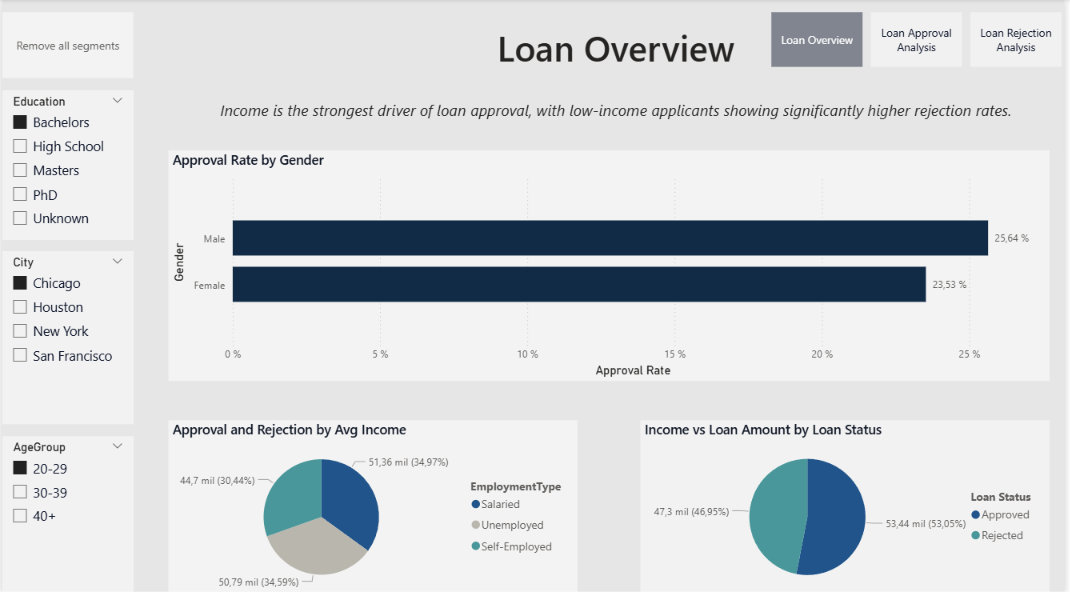

Layout of this report page (visuals, bound fields, positions):
{"tool":"powerbi","page":{"name":"Loan Overview","canvas":[1280,720],"ordinal":0},"visuals":[{"type":"textbox","box":[200.3,24.1,1079.8,176.1],"z":0},{"type":"pieChart","title":"Approval and Rejection by Avg Income","fields":{"Category":["EmploymentType.EmploymentType"],"Y":["Medidas.Avg Income"]},"box":[200.3,507.9,493.4,212.3],"z":1000},{"type":"clusteredBarChart","title":"Approval Rate by Gender","fields":{"Y":["LoanRiskPrediction.Approval Rate"],"Category":["Customer.Gender"]},"box":[200.3,182.2,1062.9,278.7],"z":2000},{"type":"pieChart","title":"Income vs Loan Amount by Loan Status","fields":{"Category":["LoanRiskPrediction.Loan Status"],"Y":["Medidas.Avg Income"]},"box":[769.7,507.9,493.4,212.3],"z":3000},{"type":"slicer","fields":{"Values":["Age.AgeGroup"]},"box":[0,527.2,158,189.4],"z":4000},{"type":"slicer","fields":{"Values":["City.City"]},"box":[0,304.6,158,208.7],"z":5000},{"type":"slicer","fields":{"Values":["Education.Education"]},"box":[0,109.8,158,181],"z":6000},{"type":"actionButton","box":[0,15.7,158,79.6],"z":7000},{"type":"pageNavigator","box":[927.8,15.7,352.3,66.4],"z":8000}]}

Visuals, with their boxes in screenshot pixels (x1, y1, x2, y2), scaled from the page's 1280x720 canvas onto the 1070x592 screenshot:
textbox: (167,20,1069,165)
"Approval and Rejection by Avg Income" pieChart: (167,418,580,591)
"Approval Rate by Gender" clusteredBarChart: (167,150,1056,379)
"Income vs Loan Amount by Loan Status" pieChart: (643,418,1056,591)
slicer - Age.AgeGroup: (0,433,132,589)
slicer - City.City: (0,250,132,422)
slicer - Education.Education: (0,90,132,239)
actionButton: (0,13,132,78)
pageNavigator: (776,13,1069,68)
